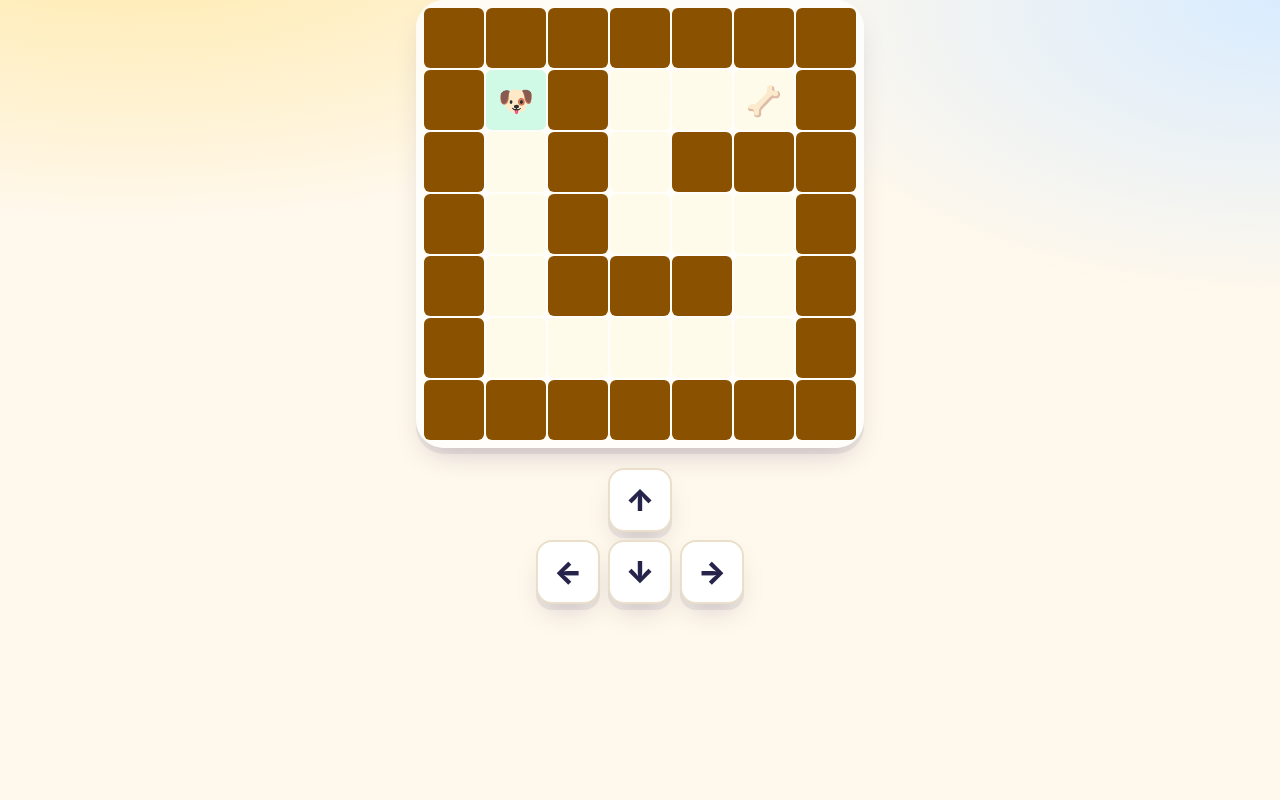
it: Maze engine › a wall does not move the walker, and keeps its place; three bumps ask for a hint
Later steps or results of the test are not shown.
Click the button "↑". click: click(640, 500)
box: 608,468 -> 672,532
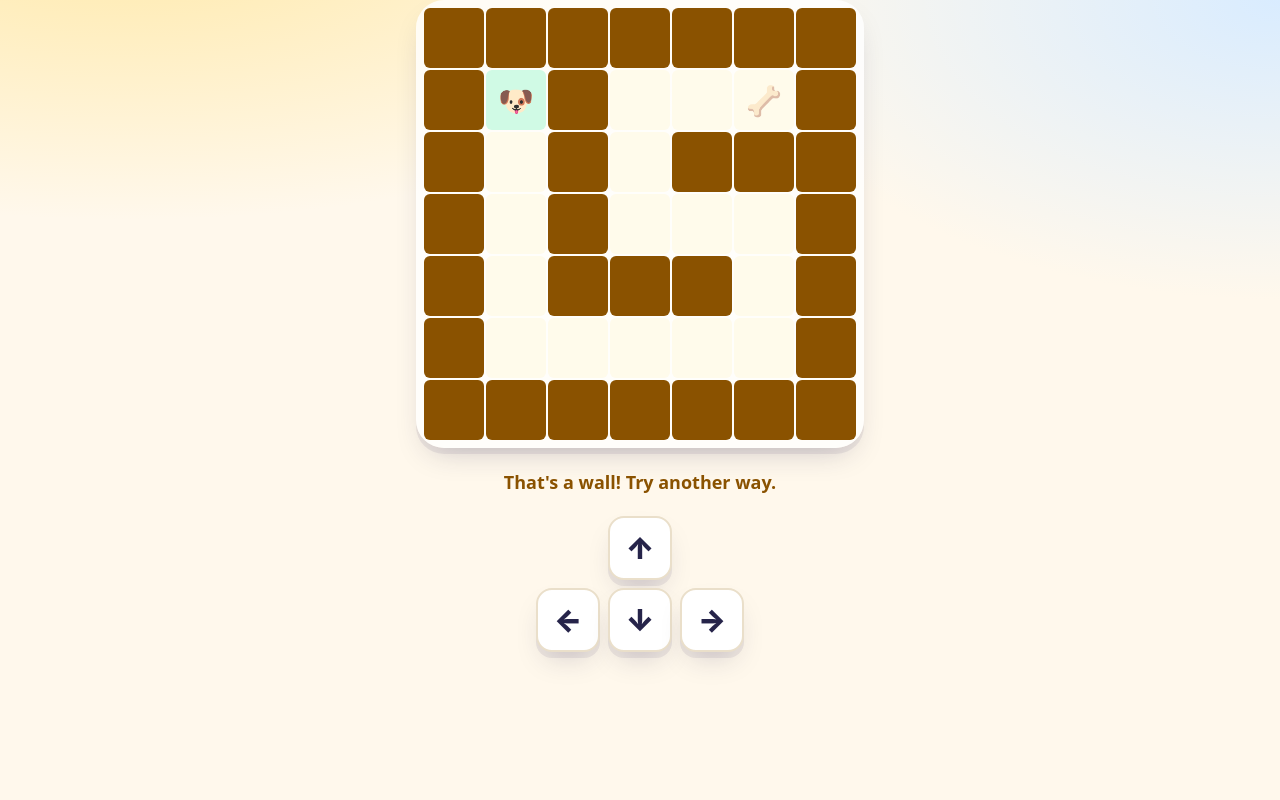
Now the text "That's a wall! Try another way." is shown, box 504,468 -> 776,496
